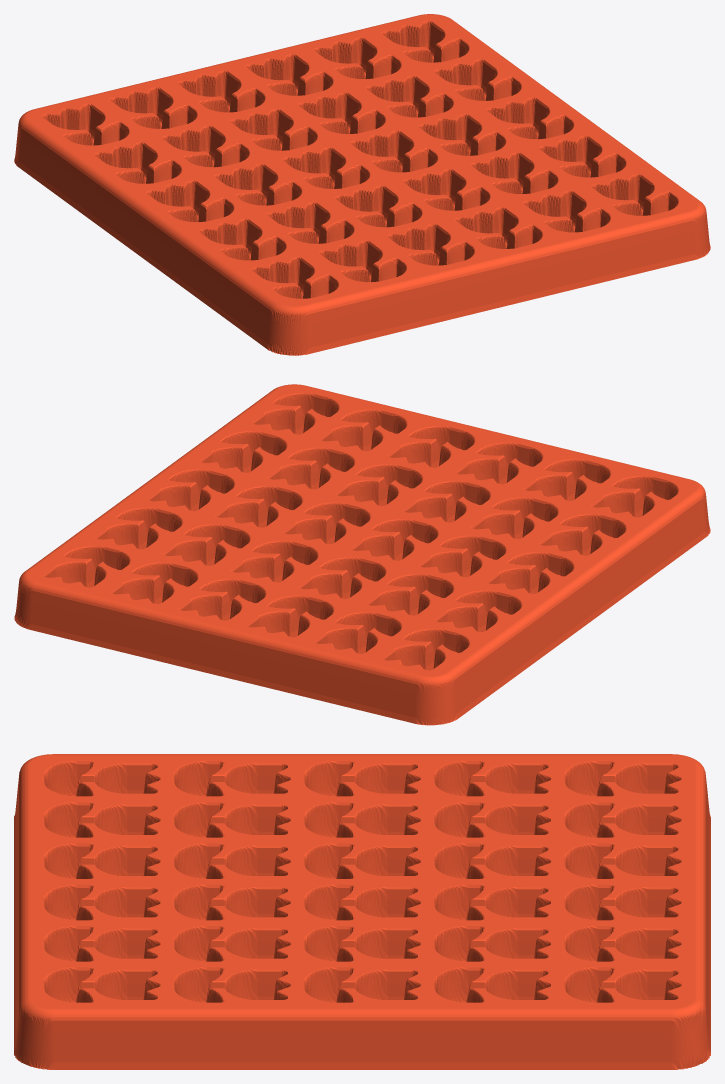
File: mold.glb
3 views of the same model, one above another, from view 1: azimuth 30°, elevation 25°; view 2: azimuth 150°, elevation 25°; view 3: azimuth 270°, elevation 25° (orthographic). The views are drawn at different scales.
Parts seen in each view (by area): view 1: geometry_0; view 2: geometry_0; view 3: geometry_0.
Part boxes in pixels (<box>): geometry_0: <box>14,14,710,355</box>; geometry_0: <box>14,384,710,725</box>; geometry_0: <box>14,754,710,1069</box>.
Bounding box in the file's own units: 0.1434 × 0.0136 × 0.1581.
